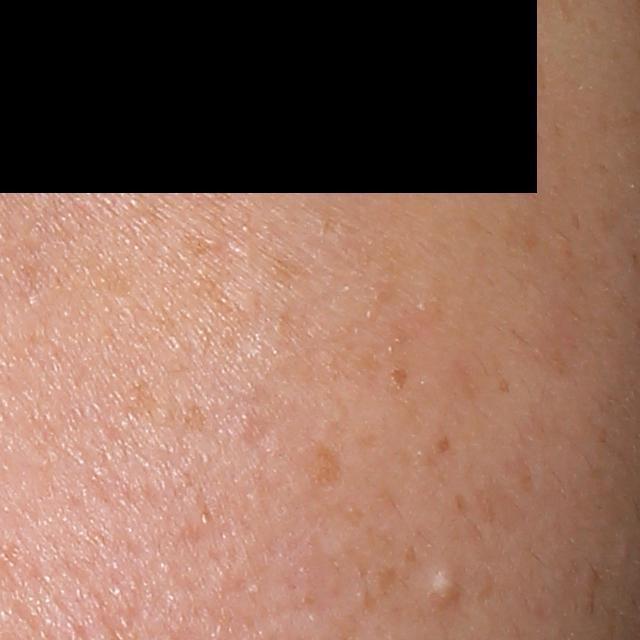melasma: (305, 281, 488, 474), (119, 378, 214, 542), (302, 438, 362, 480)
